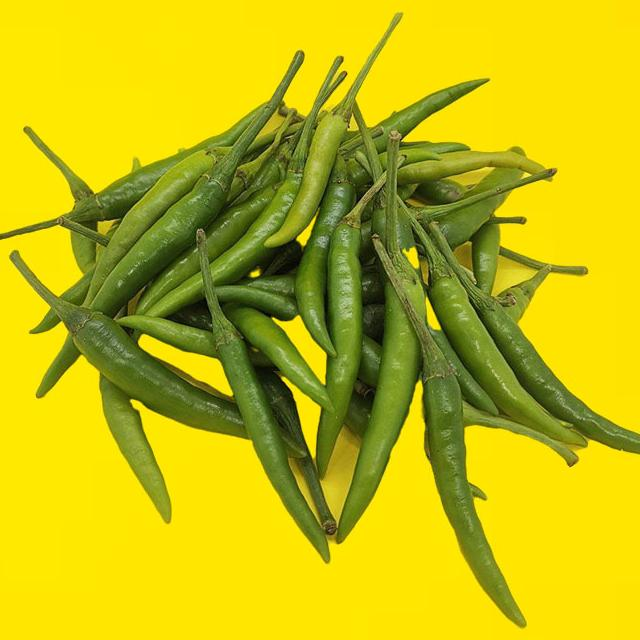chili_pepper: (11, 251, 247, 438), (198, 229, 330, 562), (407, 303, 526, 628), (455, 264, 640, 455), (424, 236, 586, 446), (265, 13, 402, 247), (87, 135, 249, 318), (84, 148, 228, 306), (338, 282, 420, 542), (317, 202, 366, 478), (296, 153, 357, 356)
